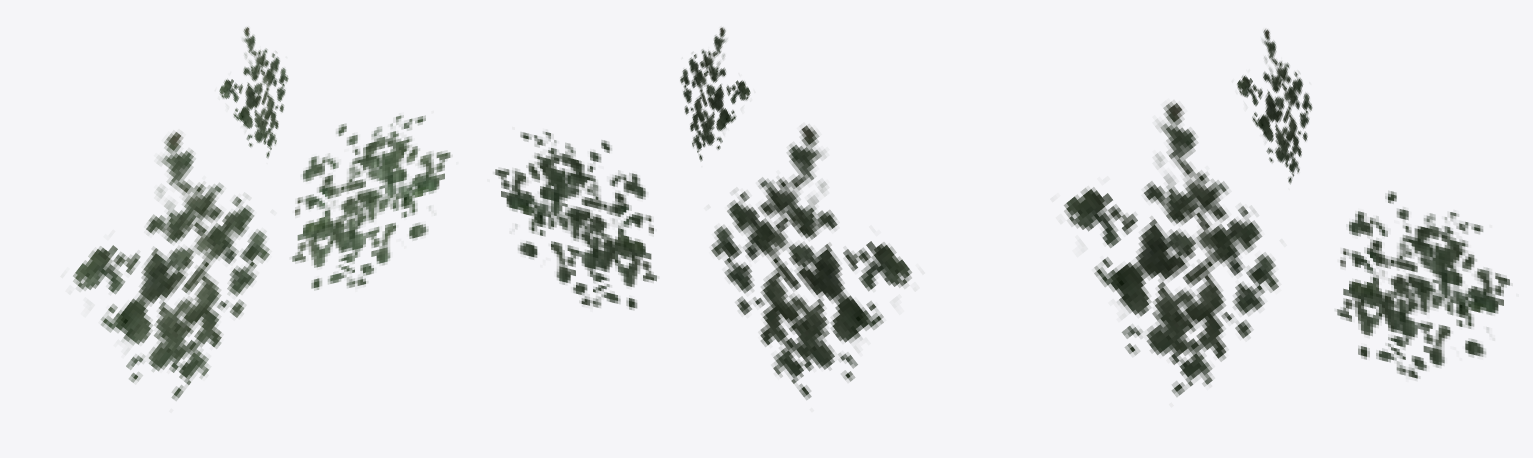
3 renders of one model, left to right at view 1: azimuth 30°, elevation 25°; view 2: azimuth 150°, elevation 25°; view 3: azimuth 330°, elevation 25°, orthographic. The views are drawn at different scales.
Visible parts, largest first — view 1: model_Object30; view 2: model_Object30; view 3: model_Object30.
Boxes of the visible parts, left/top/right/bottom form: model_Object30: left=73, top=27, right=450, bottom=400; model_Object30: left=495, top=27, right=911, bottom=399; model_Object30: left=1064, top=29, right=1509, bottom=396.
Bounding box in the file's own units: 0.8031 × 0.6805 × 0.0467.
2 materials, 2 textured.
